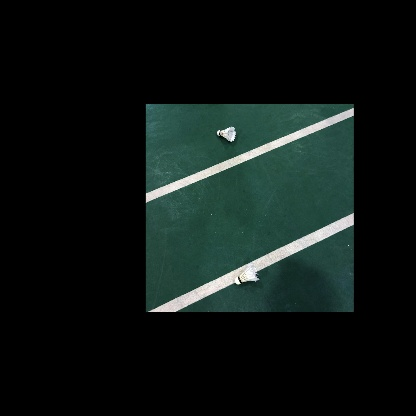ball_single: (235, 263, 260, 285), (217, 126, 236, 142)
